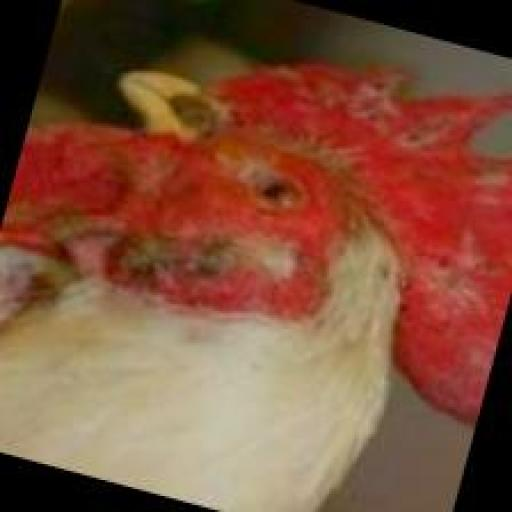disease: (390, 214, 502, 412), (85, 213, 259, 300), (222, 71, 417, 147), (421, 92, 511, 164), (157, 74, 235, 144)
